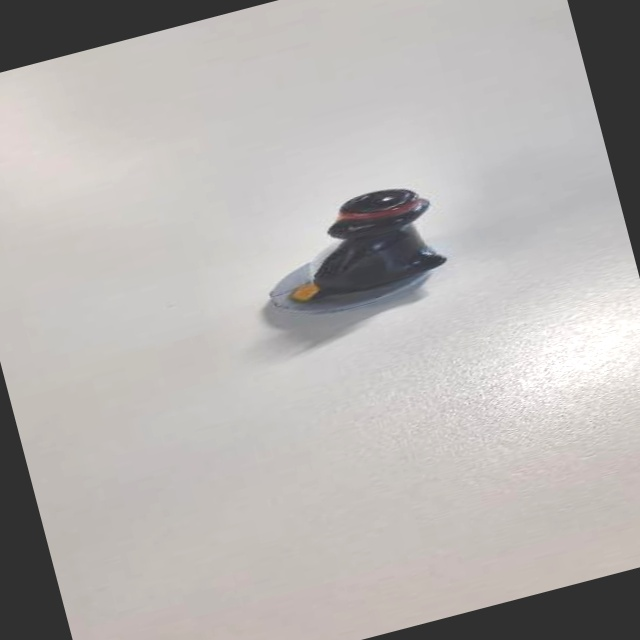Penguin: (235, 166, 472, 345)
